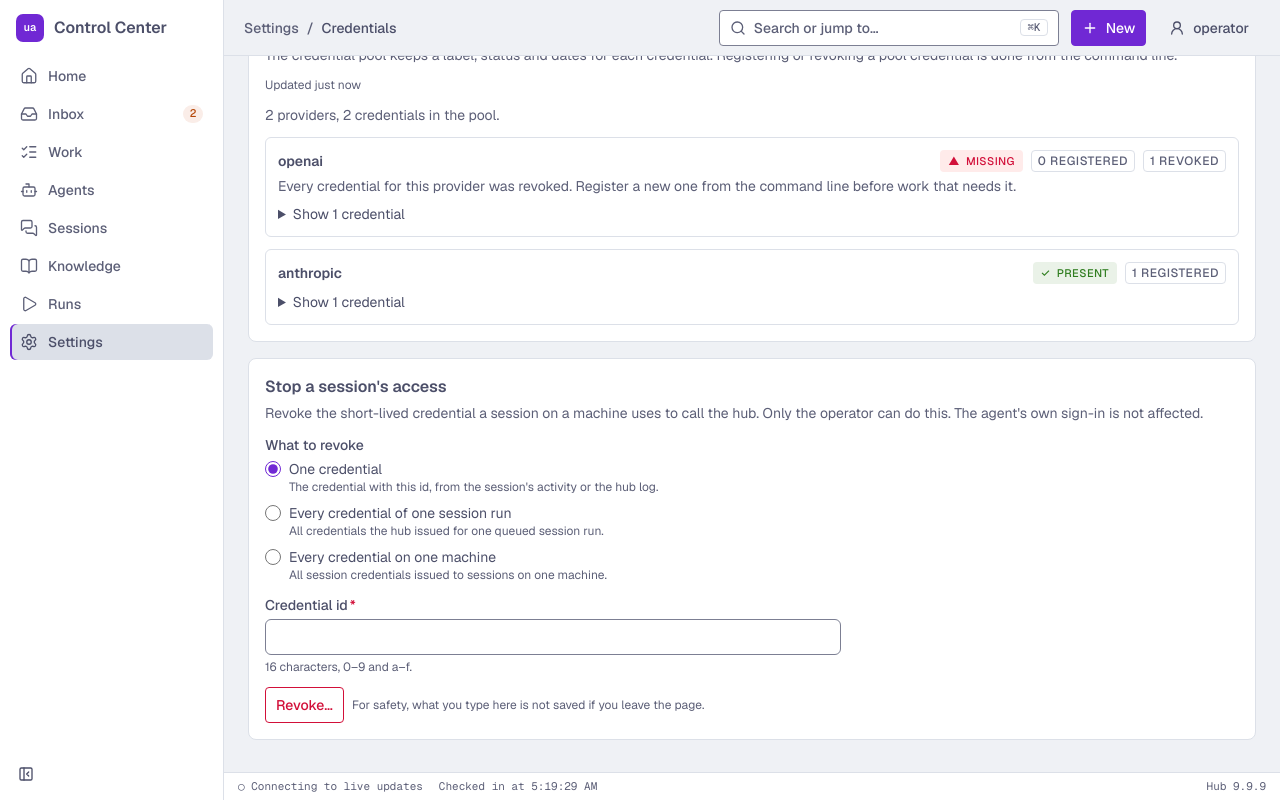
settings: a cancelled revoke › that never left shows nothing, keeps the form and does not block
The width and height of the screenshot is (1280, 800).
(page scrolled)
Type "0123456789abcdef" into the field labelled "Credential id*" at [553, 637], box x1=265 y1=619 x2=841 y2=655
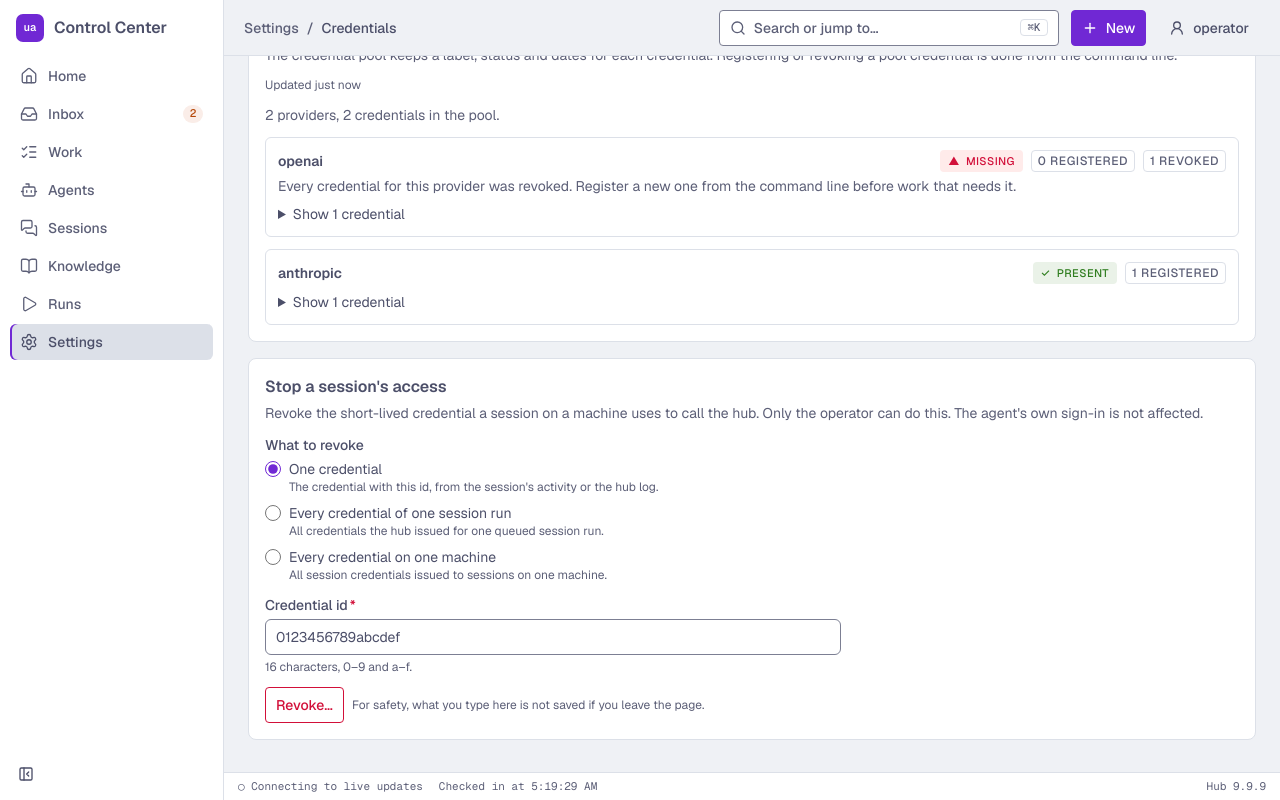
Click the button "Revoke…" at [304, 705], box x1=265 y1=687 x2=344 y2=723
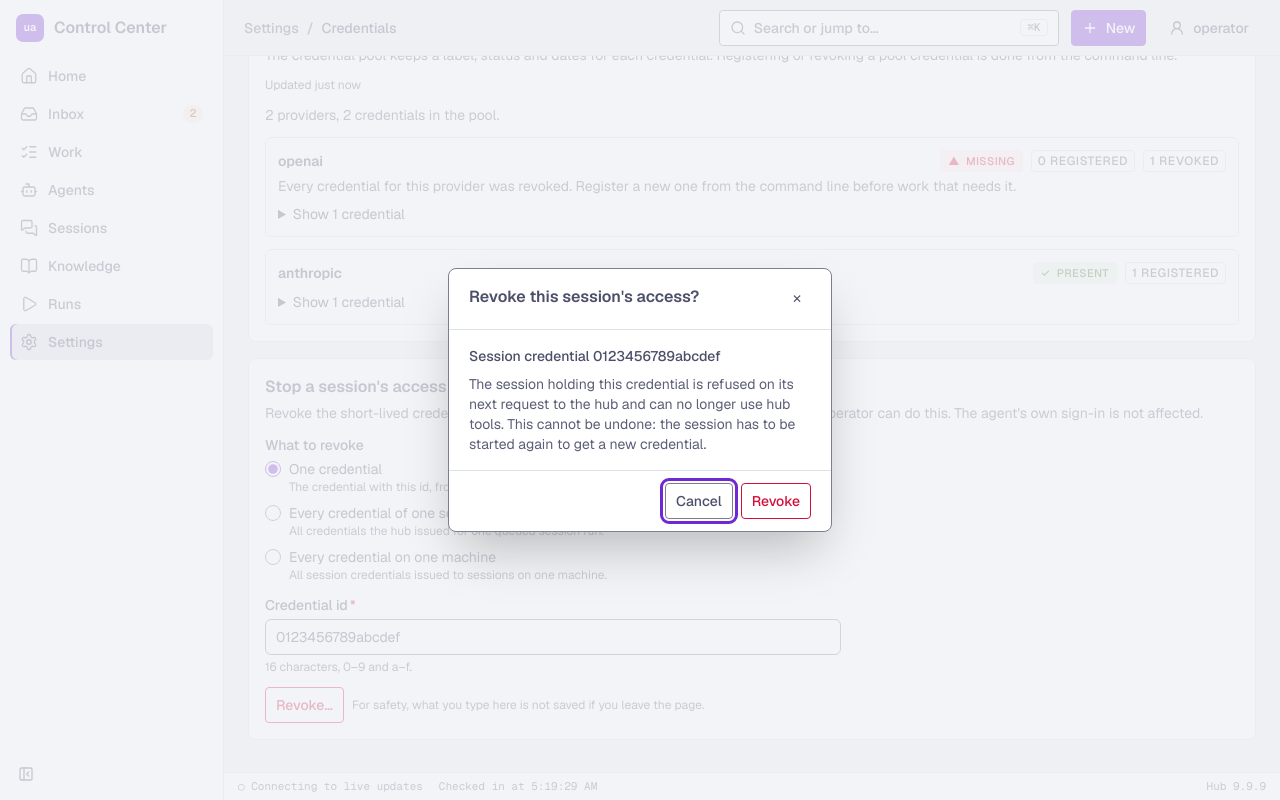
Click the button "Revoke" at [776, 501], box x1=741 y1=483 x2=811 y2=519
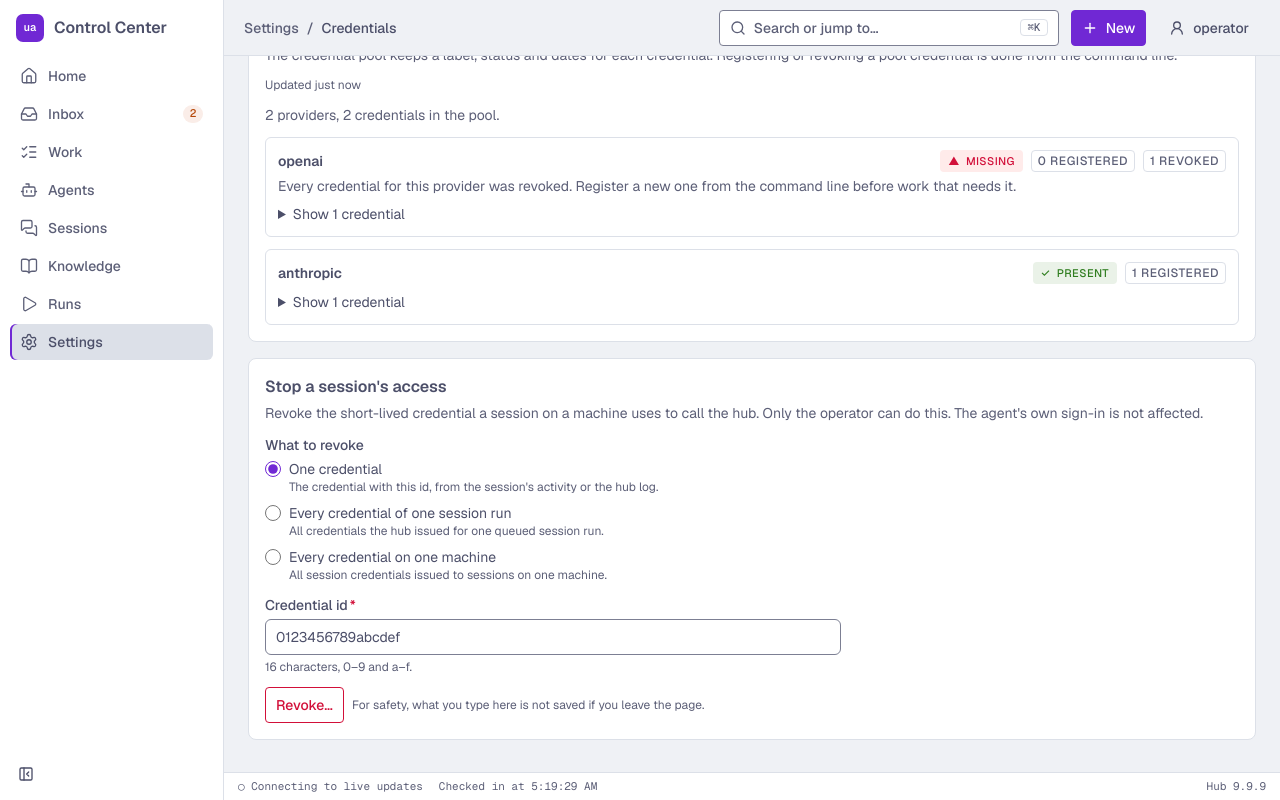
Expected: the button "Revoke…" is enabled, x1=265 y1=687 x2=344 y2=723
Expected: the dialog is gone
